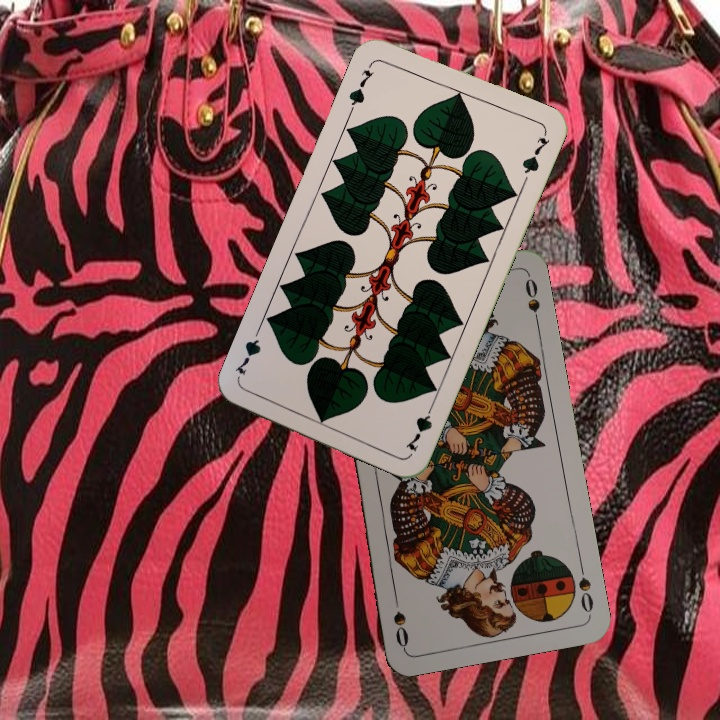G7: (401, 398, 437, 454), (344, 65, 377, 114)
SO: (574, 558, 596, 617)
